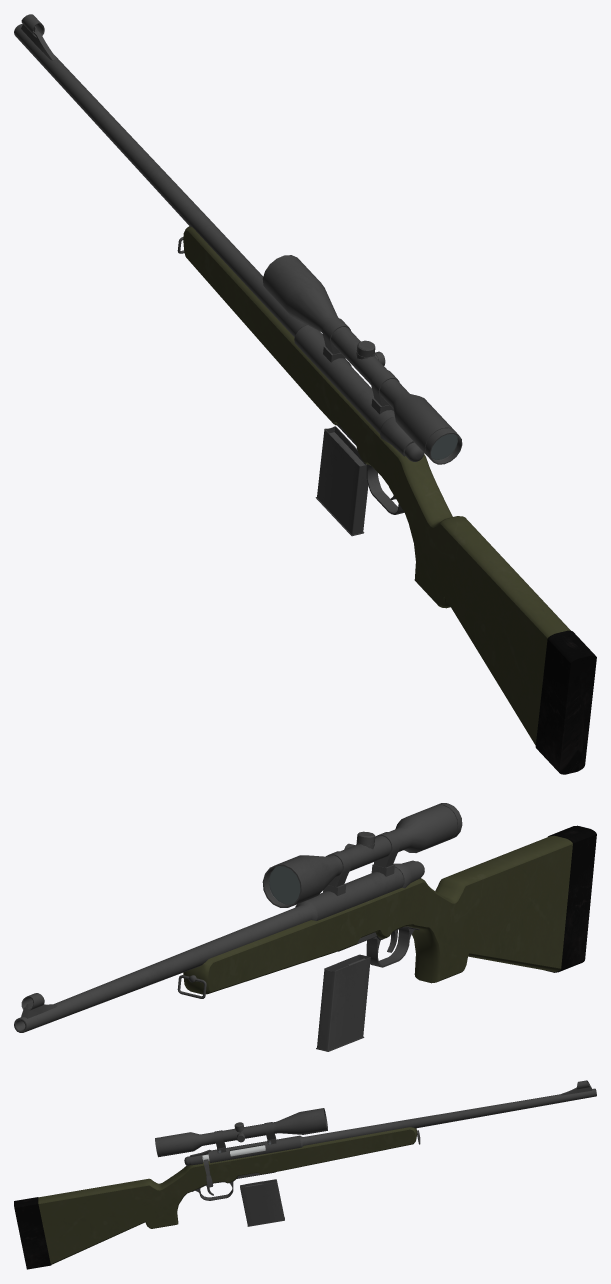
The model's file is 016_Sniper_cc0.glb.
3 renders of one model, top to bottom at view 1: azimuth 30°, elevation 25°; view 2: azimuth 150°, elevation 25°; view 3: azimuth 270°, elevation 25°, orthographic. The views are drawn at different scales.
Parts seen in each view (by area): view 1: Stock, Barrel, Scope, Magazine; view 2: Stock, Barrel, Scope, Magazine, IronSight; view 3: Stock, Barrel, Scope, Magazine, Bolt.
Boxes of the visible parts, x1,y1,x2,y2 form: Stock: [183, 226, 596, 774]; Barrel: [14, 24, 414, 514]; Scope: [262, 255, 462, 464]; Magazine: [315, 426, 368, 536]; Stock: [183, 825, 596, 994]; Barrel: [14, 860, 422, 1032]; Scope: [262, 803, 462, 907]; Magazine: [316, 954, 370, 1051]; IronSight: [21, 993, 57, 1018]; Stock: [14, 1127, 417, 1269]; Barrel: [190, 1088, 596, 1200]; Scope: [155, 1108, 327, 1157]; Magazine: [240, 1179, 284, 1226]; Bolt: [184, 1145, 265, 1187].
Bounding box in the file's own units: 0.0568 × 0.3966 × 1.12.
Materials: 1 (1 with a texture image).
